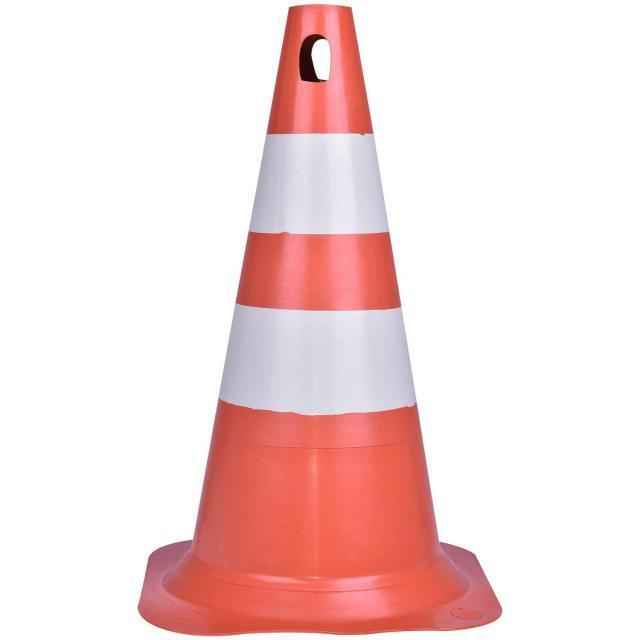traffic cone: (135, 2, 505, 639)
